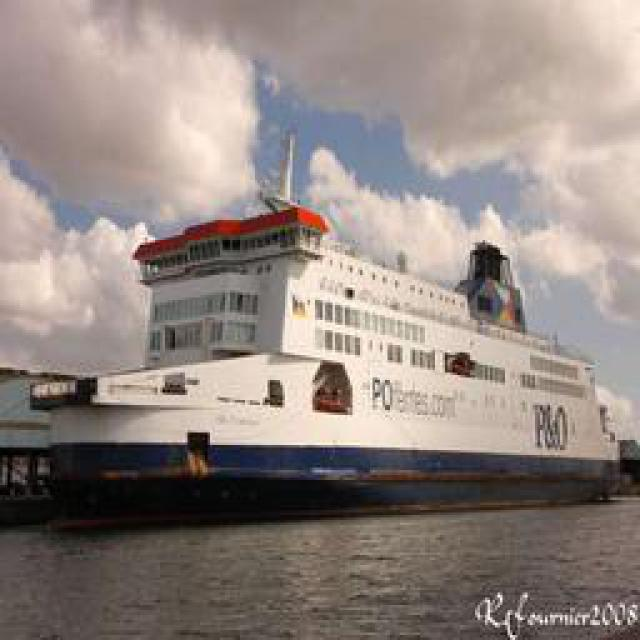Ship: (10, 201, 623, 511)
